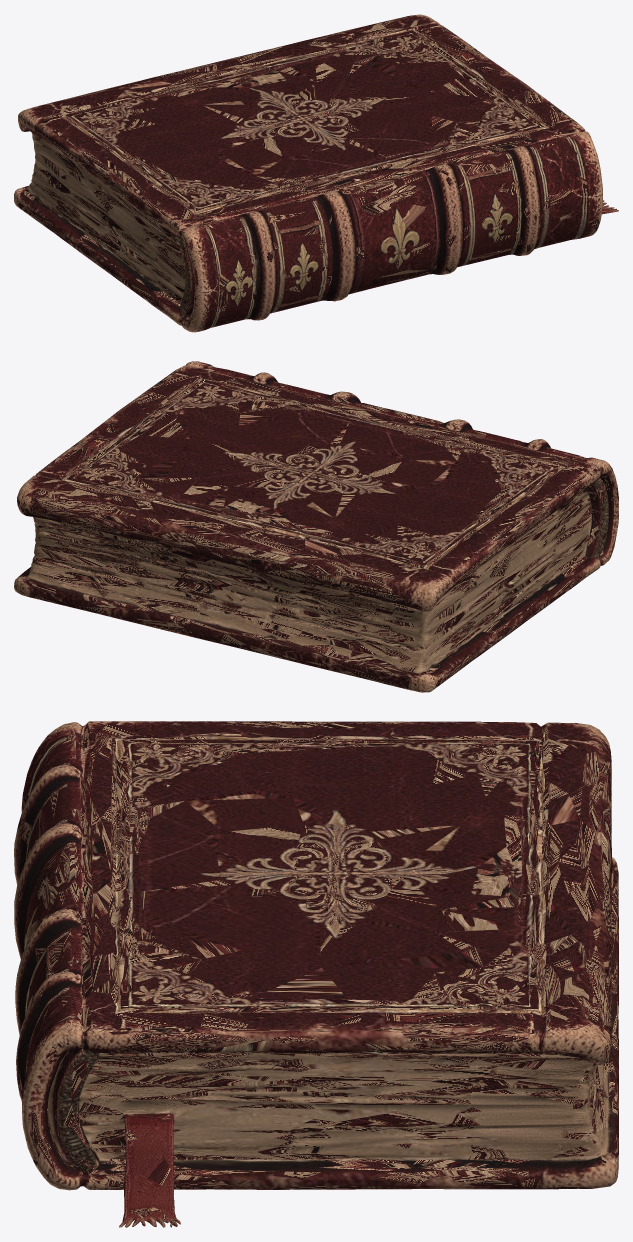
File: leather-book.glb
3 renders of one model, top to bottom at view 1: azimuth 30°, elevation 25°; view 2: azimuth 150°, elevation 25°; view 3: azimuth 270°, elevation 25°, orthographic. The views are drawn at different scales.
Parts seen in each view (by area): view 1: leather-book; view 2: leather-book; view 3: leather-book.
Boxes of the visible parts, left/top/right/bottom form: leather-book: left=14, top=14, right=618, bottom=332; leather-book: left=14, top=361, right=618, bottom=692; leather-book: left=14, top=721, right=618, bottom=1227.
Bounding box in the file's own units: 1.9 × 0.4277 × 1.4.
1 material, 1 textured.
